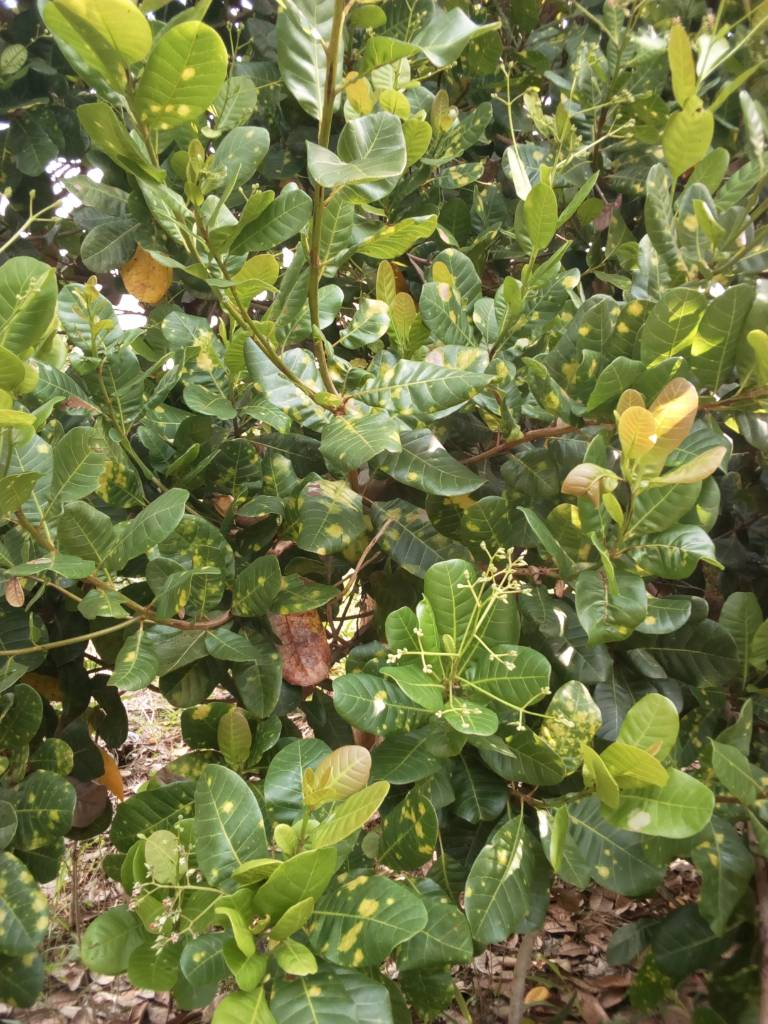Carence minérale: (182, 746, 285, 896), (302, 863, 436, 971), (140, 10, 235, 153), (629, 158, 724, 291), (149, 505, 246, 616), (277, 470, 378, 567), (1, 827, 60, 974), (553, 287, 619, 406), (692, 818, 758, 924), (164, 307, 243, 395), (313, 403, 413, 472), (426, 244, 485, 353), (543, 670, 604, 775), (213, 446, 271, 539), (430, 104, 511, 150), (430, 153, 493, 195)
